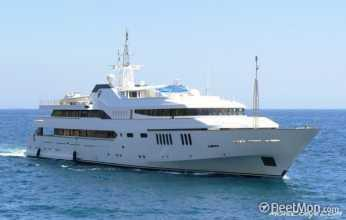yacht: (18, 50, 323, 179)
